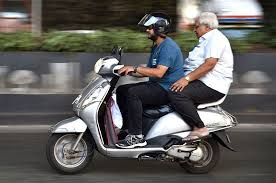helmet: (134, 8, 170, 43)
